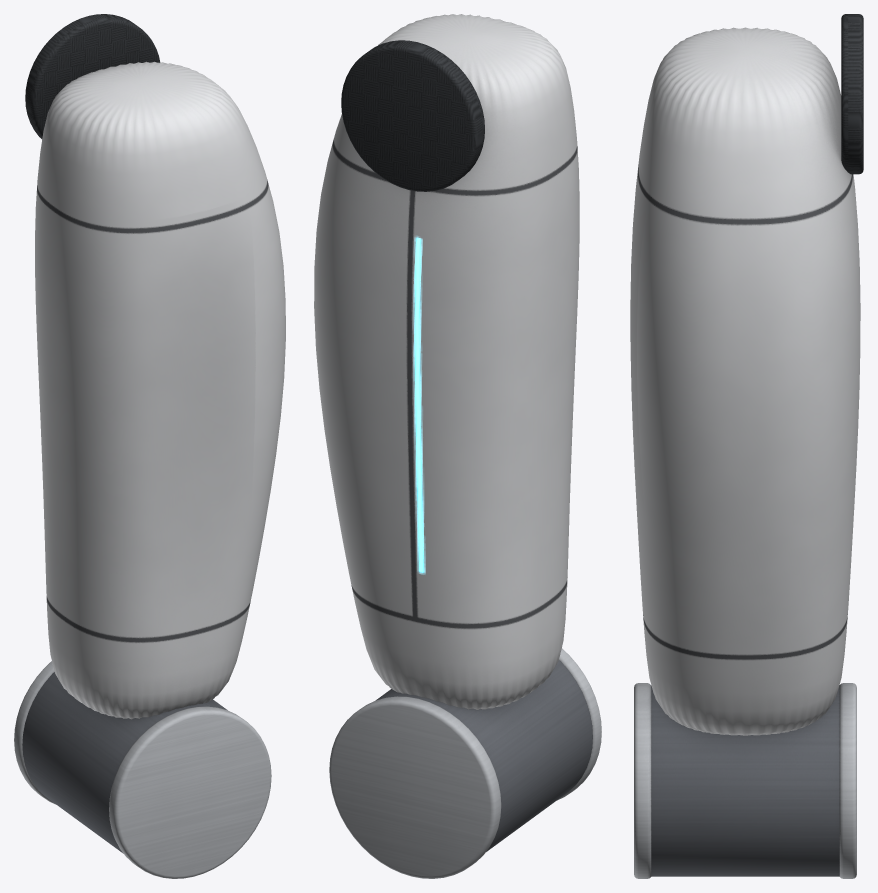
File: left_thigh.glb
3 renders of one model, left to right at view 1: azimuth 30°, elevation 25°; view 2: azimuth 150°, elevation 25°; view 3: azimuth 270°, elevation 25°, orthographic. The views are drawn at different scales.
Visible parts, largest first — view 1: left_thigh; view 2: left_thigh; view 3: left_thigh.
Part boxes in pixels (x1=…): left_thigh: x1=14, y1=14, x2=285, y2=878; left_thigh: x1=314, y1=14, x2=601, y2=878; left_thigh: x1=630, y1=14, x2=863, y2=878.
Size of the model in its own units: 0.1208 by 0.42 by 0.1046.
Materials: 1 (1 with a texture image).
